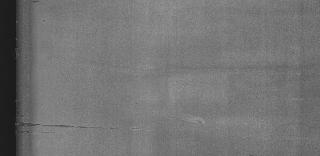scratches: (16, 115, 126, 137)
